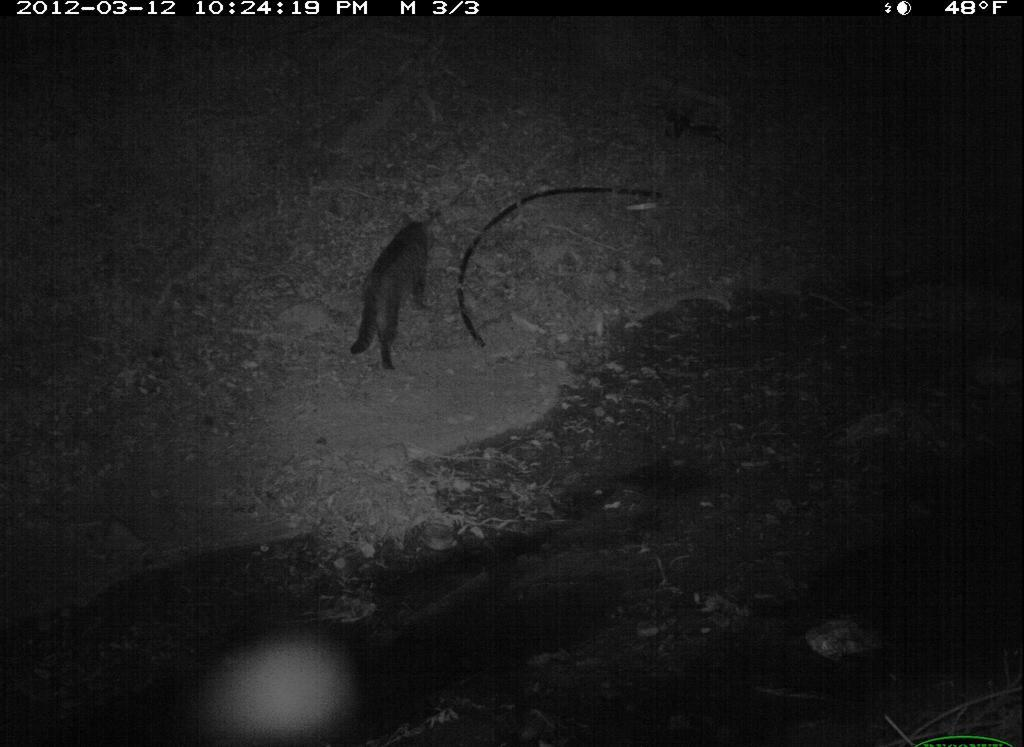cat: (341, 207, 442, 379)
